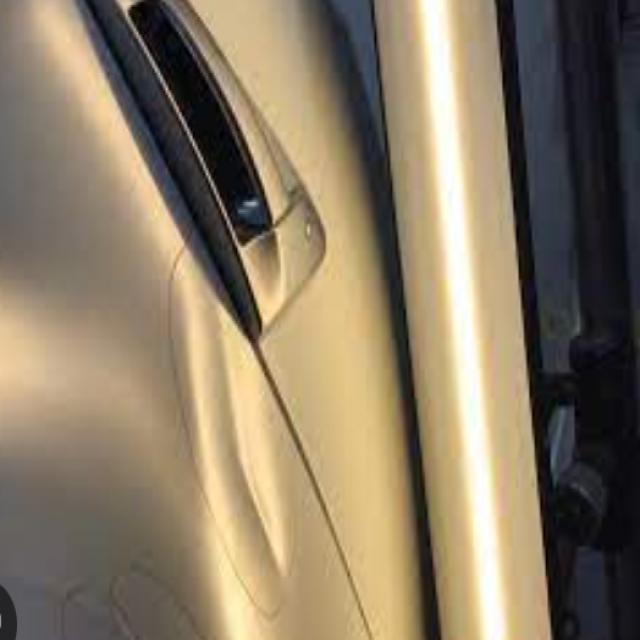dents: (210, 302, 304, 586)
